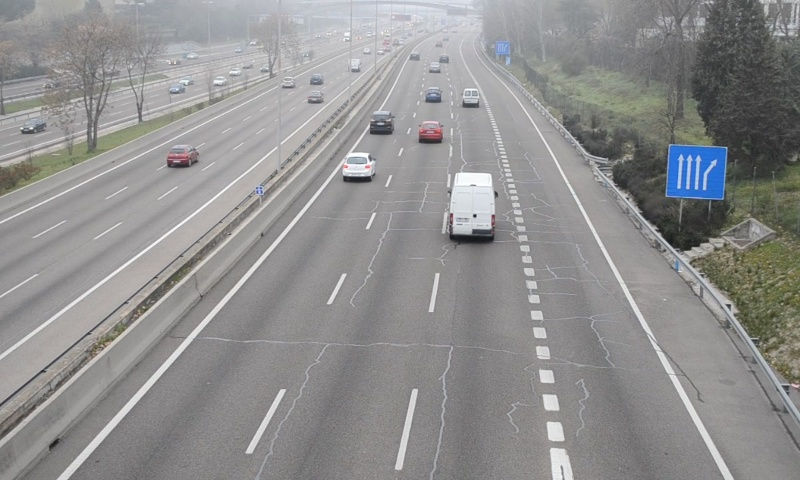car: (340, 153, 375, 178), (368, 110, 394, 135), (419, 120, 443, 144), (424, 86, 442, 104)
van: (448, 172, 496, 243), (462, 88, 481, 108)
